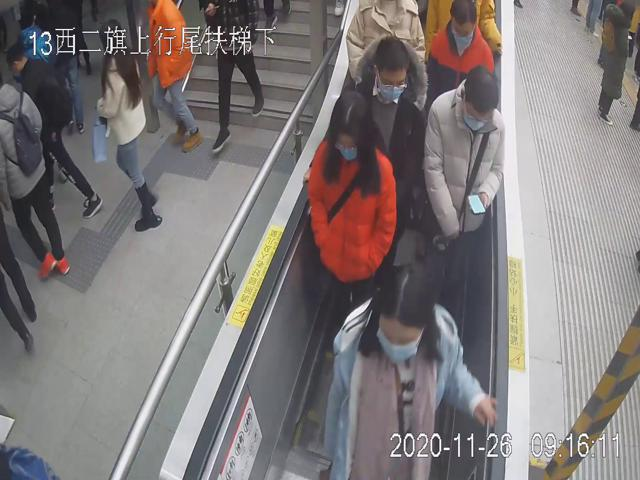person: (322, 258, 498, 480), (307, 86, 398, 306), (423, 64, 506, 276), (350, 34, 427, 159), (427, 0, 503, 93)
